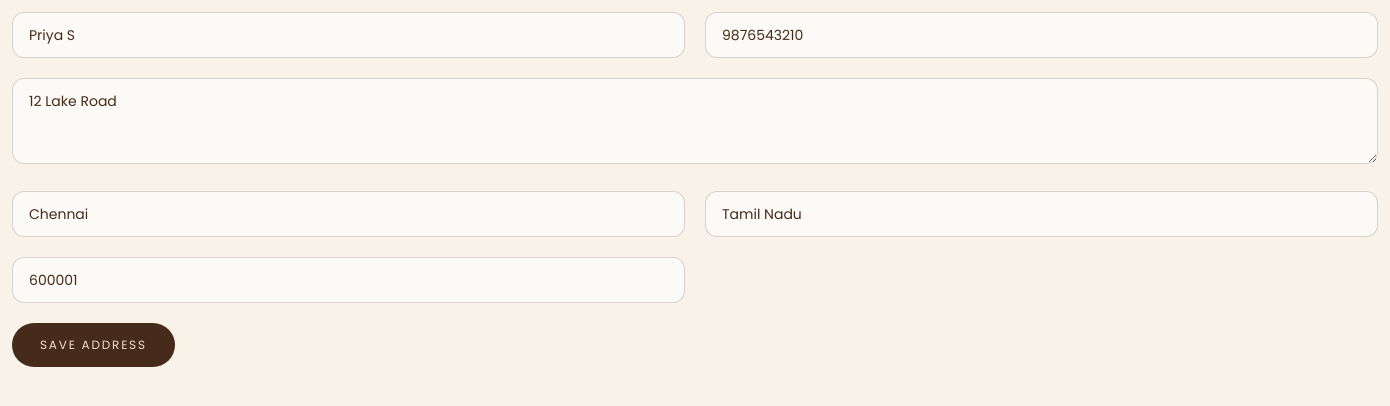
Test: AddressForm › a problem found by the shop is shown under the field
Click the button "Save Address". click: (93, 345)
box: 12,323 -> 175,367
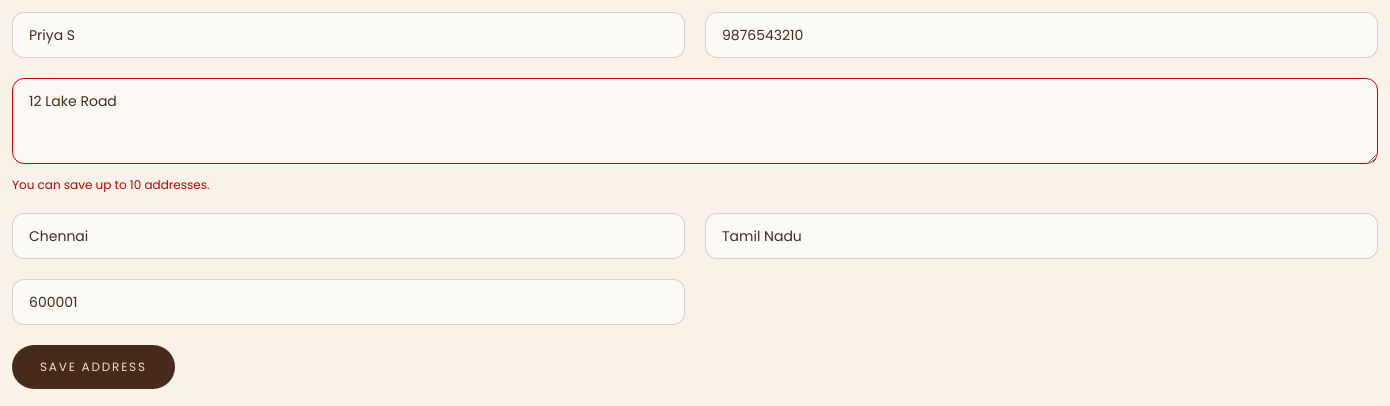
Expected: the text "You can save up to 10 addresses." is shown, 12,176 -> 209,193
